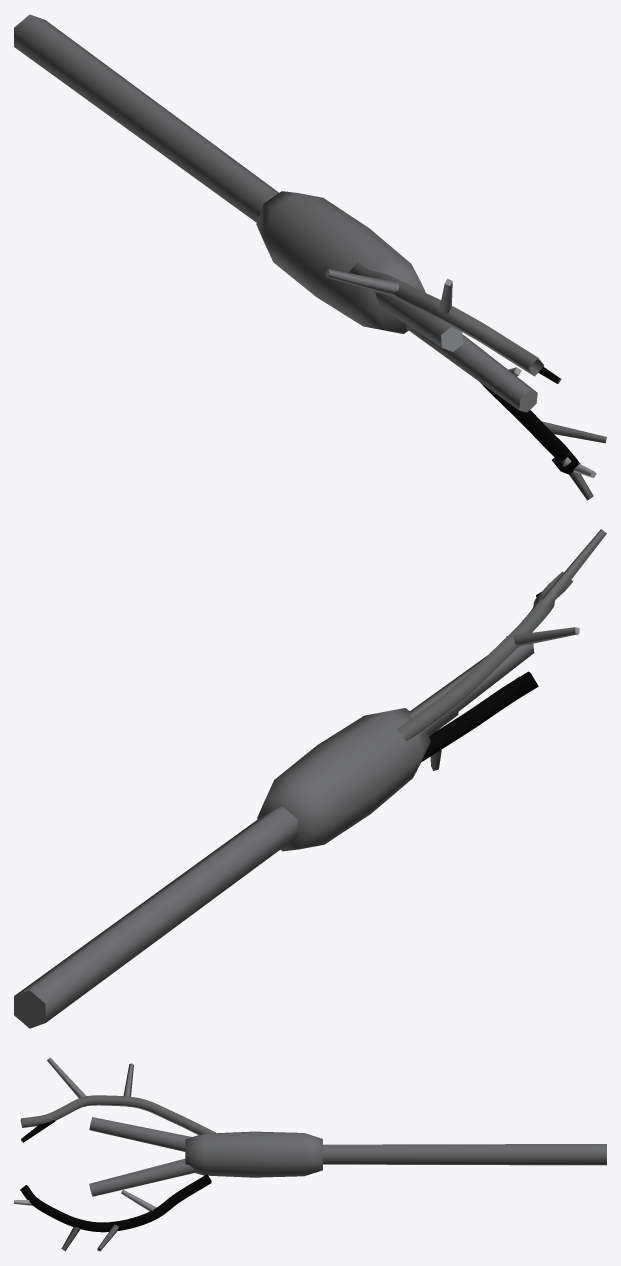
3 views of the same model, one above another, from view 1: azimuth 30°, elevation 25°; view 2: azimuth 150°, elevation 25°; view 3: azimuth 270°, elevation 25° (orthographic). The views are drawn at different scales.
Size of the model in its own units: 0.4431 by 0.4496 by 1.6.
